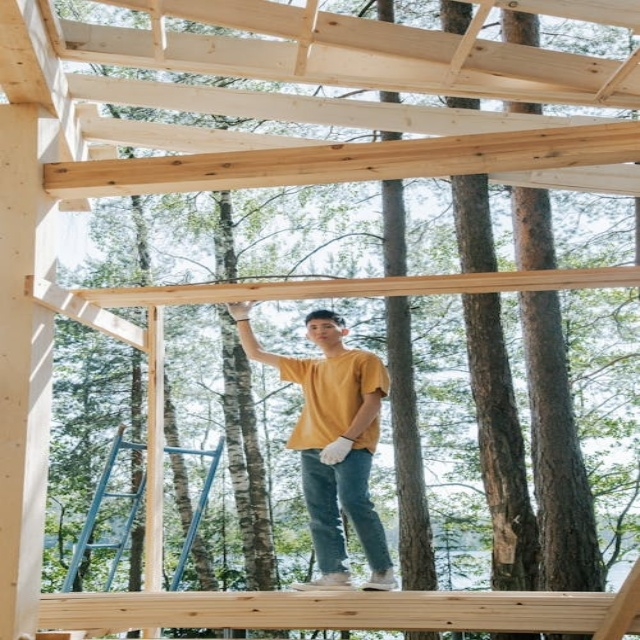Guantes: (319, 436, 355, 464), (225, 300, 254, 320)
Sin_gafas: (307, 320, 335, 329)
Sin_mascara: (311, 335, 337, 345)
